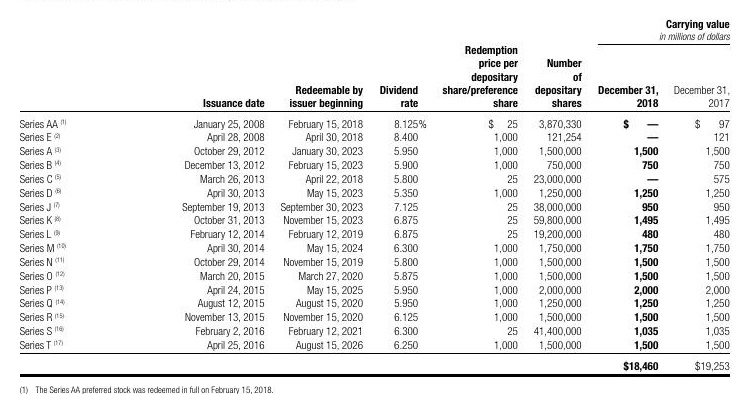table: (0, 0, 751, 394)
